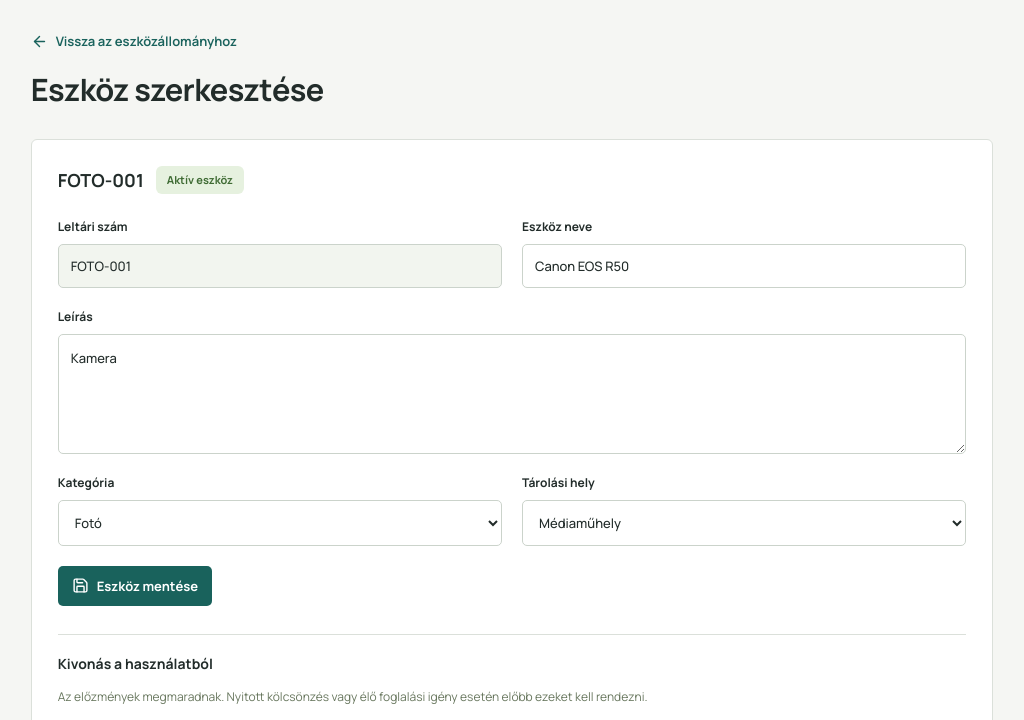
it: eszköznyilvántartás › a szerkesztés verziót küld, a leltári szám olvasható marad
Replace the text in the field labelled "Eszköz neve" with "Pontosított név" at (744, 266), box [522,244,966,288]
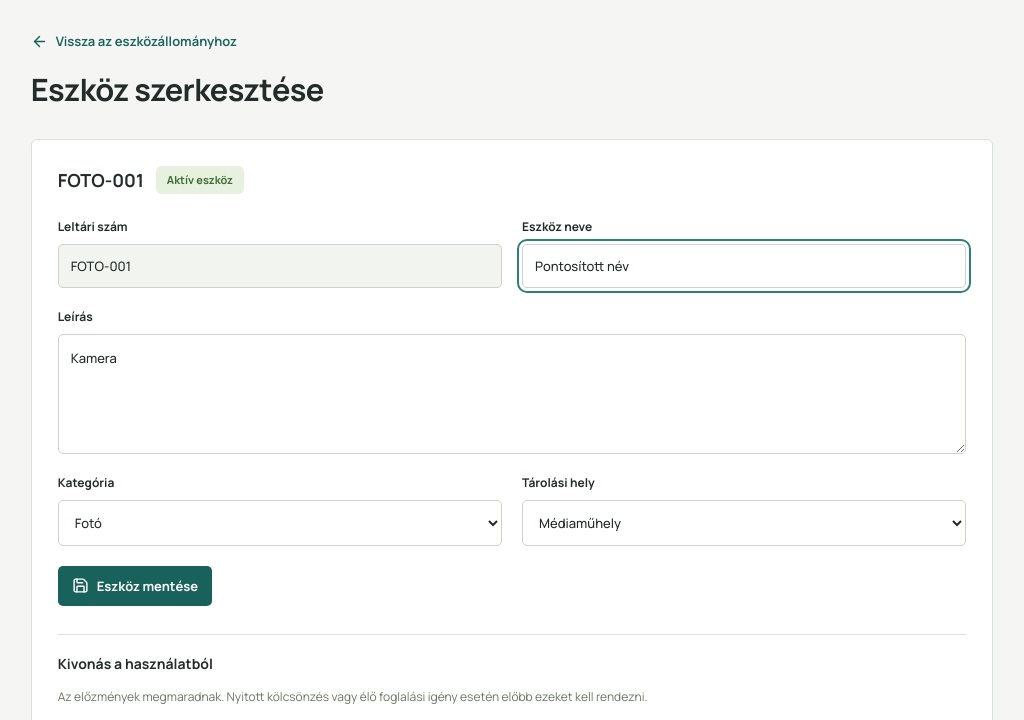
Click the button "Eszköz mentése" at (135, 586), box [58,566,212,606]
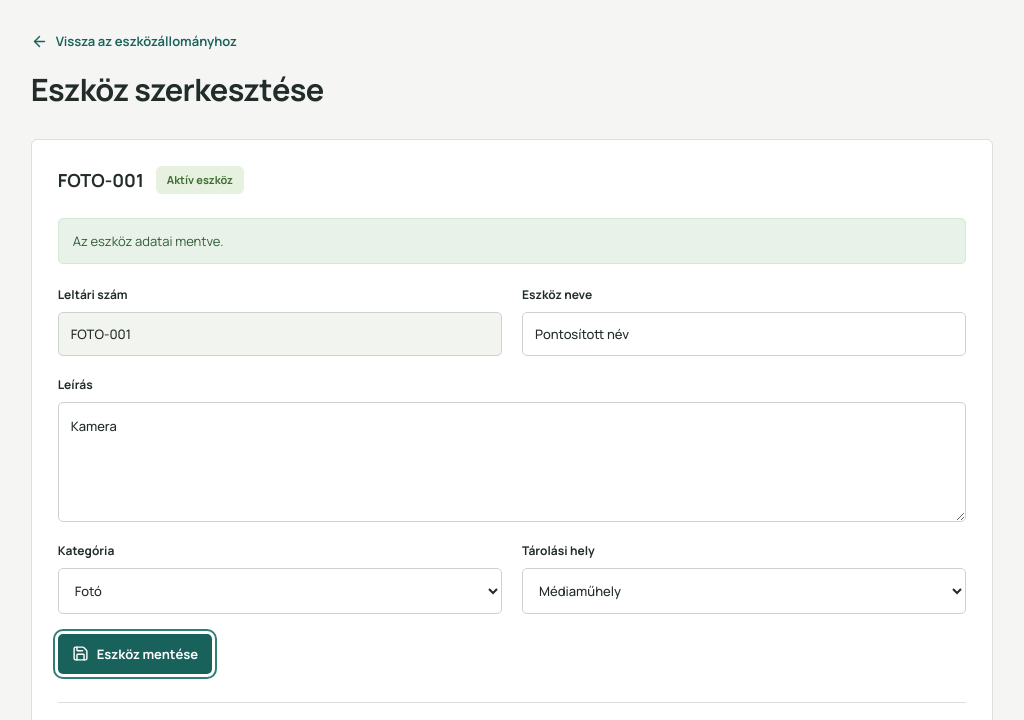
Check: the message shows "mentve", box [73,232,224,250]
